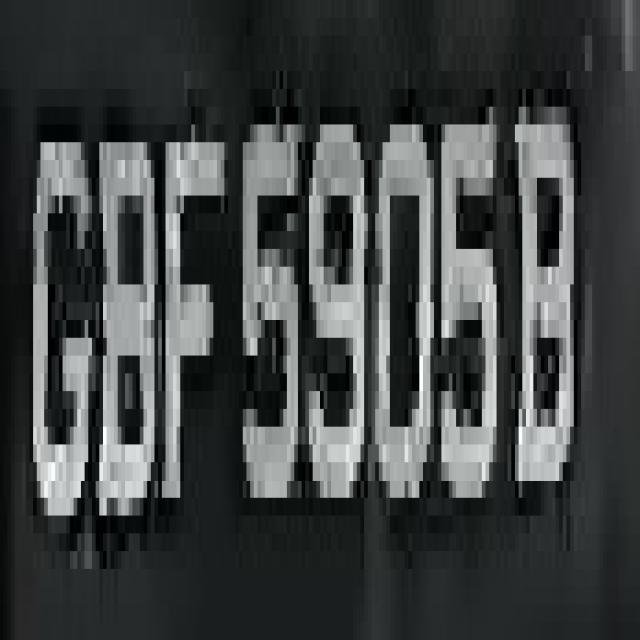0: (375, 89, 427, 480)
5: (239, 71, 302, 551), (438, 89, 504, 515)
9: (298, 89, 371, 498)
B: (508, 36, 578, 534), (96, 107, 158, 533)
F: (158, 89, 228, 515)
G: (29, 53, 92, 551)
